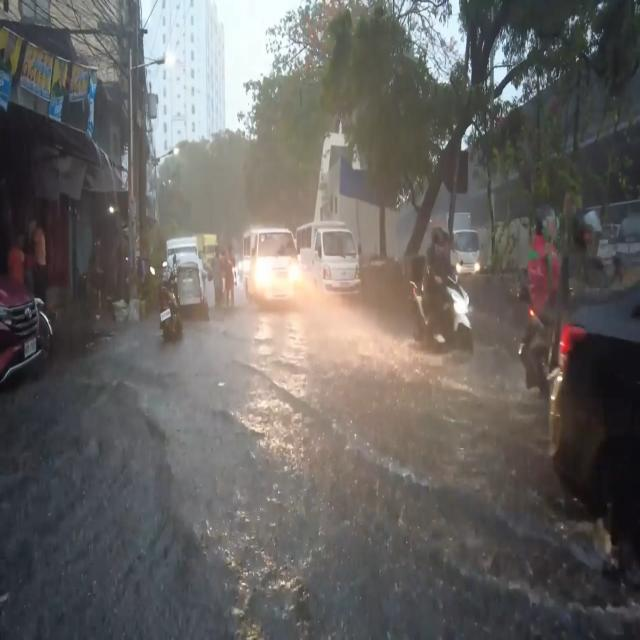half: (572, 210, 602, 257), (536, 204, 558, 244)
